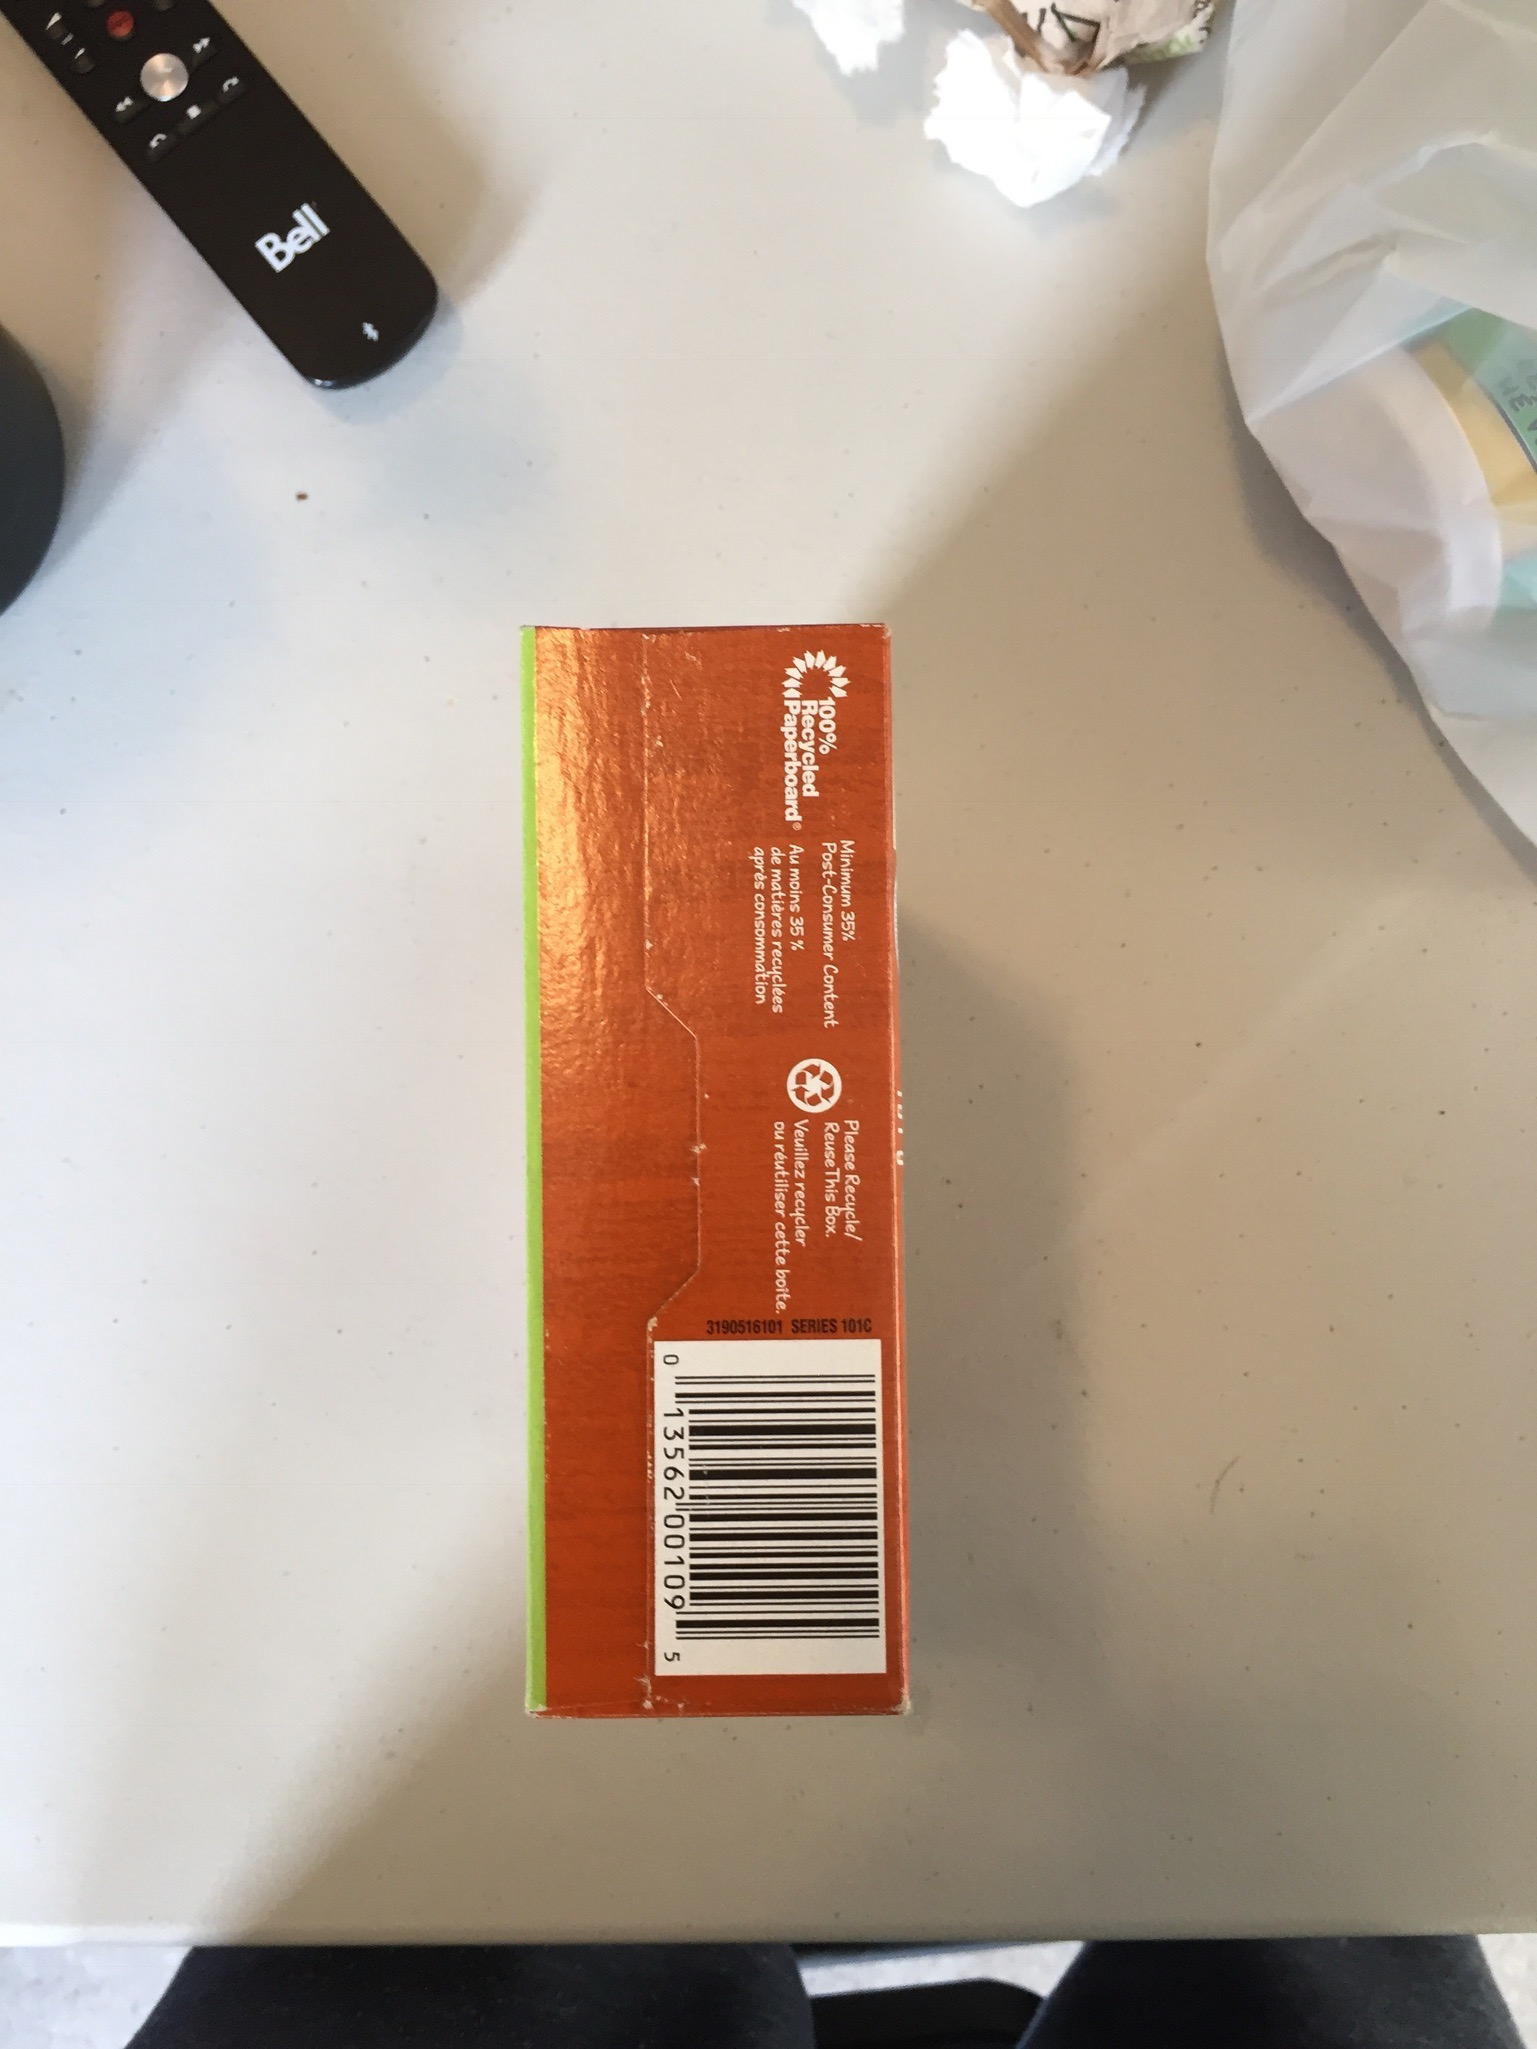annies_snickerdoodle_cinnamon_sugar: (530, 626, 890, 1716)
